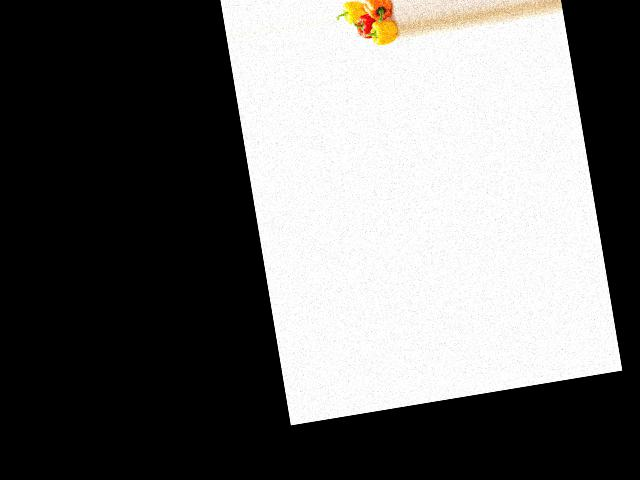bell_pepper: (363, 11, 400, 48)
